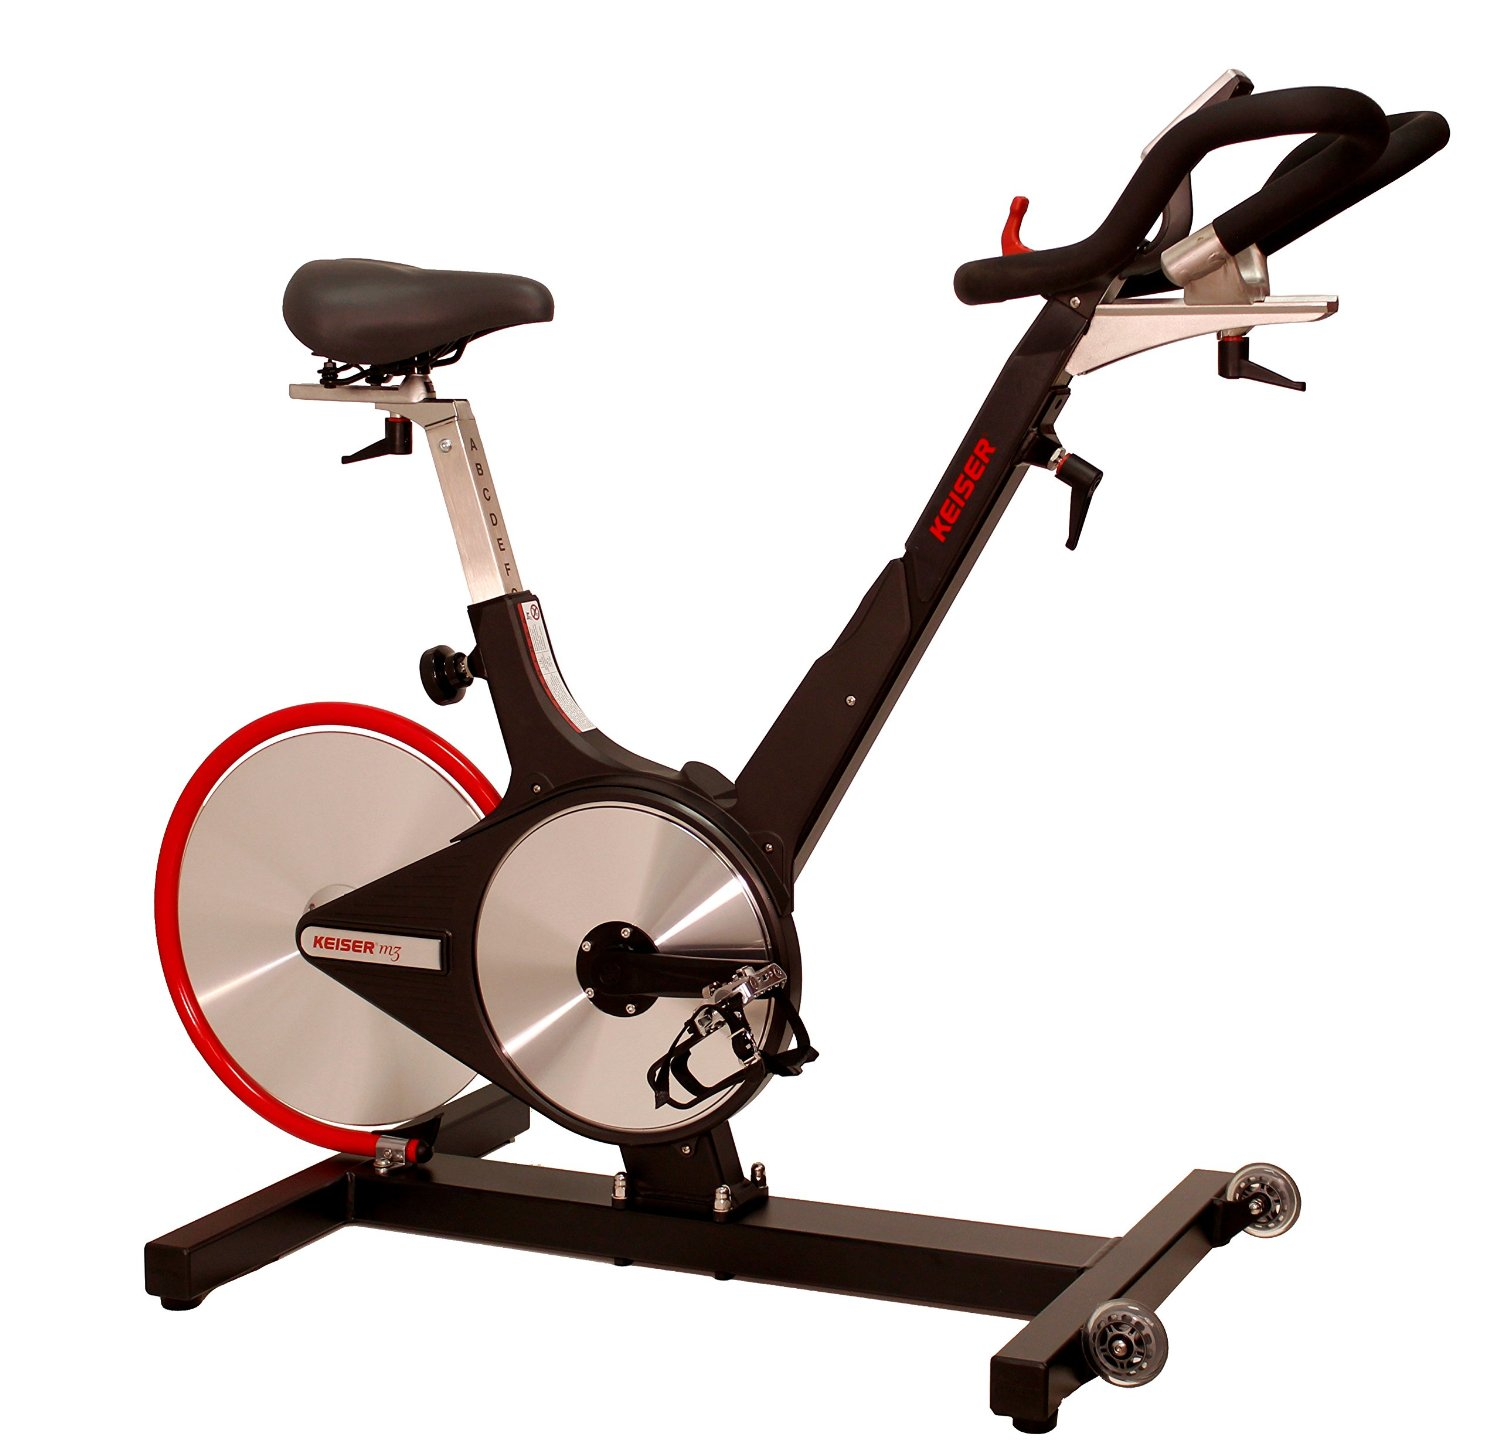gym_bike: (100, 58, 1454, 1432)
